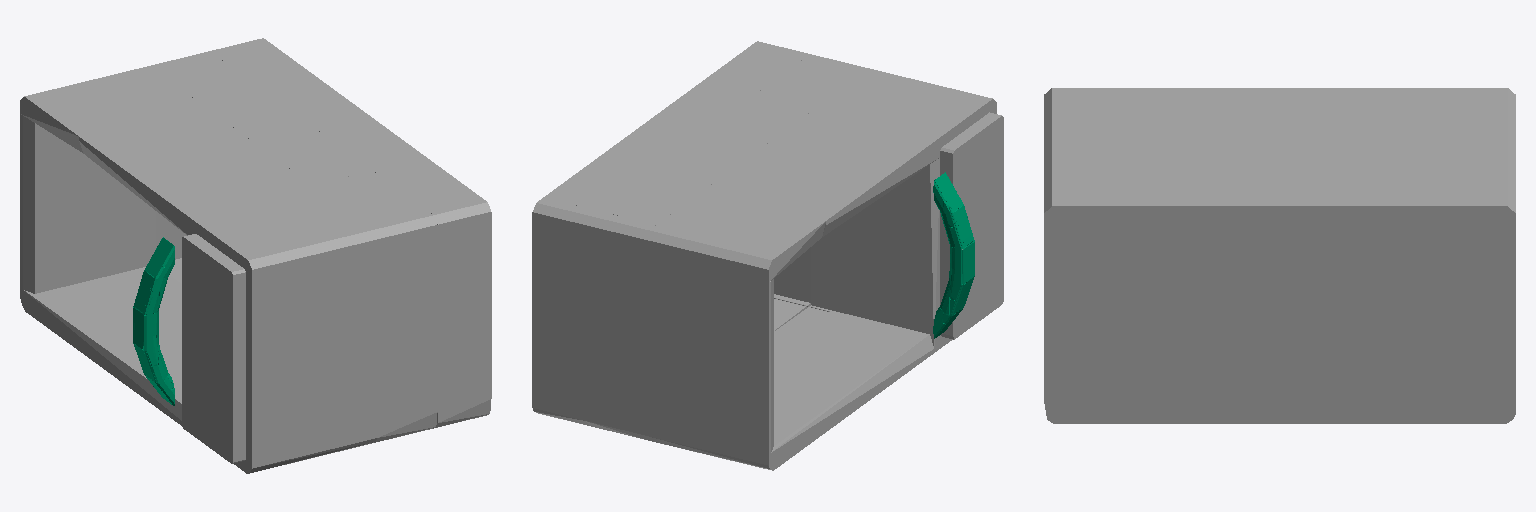
The robot description file, URDF, robot "partnet_c75ebd7c340649ba5ad304c2564ae1df":
<?xml version="1.0" ?>
<robot name="partnet_c75ebd7c340649ba5ad304c2564ae1df">
	<link name="base"/>
	<link name="link_0">
		<visual name="door_frame-9">
			<origin xyz="0.6994047812620767 -0.3716736367086352 -0.4594064542801477"/>
			<geometry>
				<mesh filename="textured_objs/original-2.obj"/>
			</geometry>
		</visual>
		<visual name="glass-10">
			<origin xyz="0.6994047812620767 -0.3716736367086352 -0.4594064542801477"/>
			<geometry>
				<mesh filename="textured_objs/original-6.obj"/>
			</geometry>
		</visual>
		<visual name="glass-10">
			<origin xyz="0.6994047812620767 -0.3716736367086352 -0.4594064542801477"/>
			<geometry>
				<mesh filename="textured_objs/original-9.obj"/>
			</geometry>
		</visual>
		<visual name="glass-10">
			<origin xyz="0.6994047812620767 -0.3716736367086352 -0.4594064542801477"/>
			<geometry>
				<mesh filename="textured_objs/original-8.obj"/>
			</geometry>
		</visual>
		<visual name="glass-10">
			<origin xyz="0.6994047812620767 -0.3716736367086352 -0.4594064542801477"/>
			<geometry>
				<mesh filename="textured_objs/original-15.obj"/>
			</geometry>
		</visual>
		<visual name="glass-10">
			<origin xyz="0.6994047812620767 -0.3716736367086352 -0.4594064542801477"/>
			<geometry>
				<mesh filename="textured_objs/original-10.obj"/>
			</geometry>
		</visual>
		<visual name="glass-10">
			<origin xyz="0.6994047812620767 -0.3716736367086352 -0.4594064542801477"/>
			<geometry>
				<mesh filename="textured_objs/original-12.obj"/>
			</geometry>
		</visual>
		<visual name="glass-10">
			<origin xyz="0.6994047812620767 -0.3716736367086352 -0.4594064542801477"/>
			<geometry>
				<mesh filename="textured_objs/original-14.obj"/>
			</geometry>
		</visual>
		<visual name="glass-10">
			<origin xyz="0.6994047812620767 -0.3716736367086352 -0.4594064542801477"/>
			<geometry>
				<mesh filename="textured_objs/original-11.obj"/>
			</geometry>
		</visual>
		<visual name="glass-10">
			<origin xyz="0.6994047812620767 -0.3716736367086352 -0.4594064542801477"/>
			<geometry>
				<mesh filename="textured_objs/original-13.obj"/>
			</geometry>
		</visual>
		<visual name="glass-10">
			<origin xyz="0.6994047812620767 -0.3716736367086352 -0.4594064542801477"/>
			<geometry>
				<mesh filename="textured_objs/original-5.obj"/>
			</geometry>
		</visual>
		<visual name="glass-10">
			<origin xyz="0.6994047812620767 -0.3716736367086352 -0.4594064542801477"/>
			<geometry>
				<mesh filename="textured_objs/original-16.obj"/>
			</geometry>
		</visual>
		<collision>
			<origin xyz="0.6994047812620767 -0.3716736367086352 -0.4594064542801477"/>
			<geometry>
				<mesh filename="textured_objs/original-2.obj"/>
			</geometry>
		</collision>
		<collision>
			<origin xyz="0.6994047812620767 -0.3716736367086352 -0.4594064542801477"/>
			<geometry>
				<mesh filename="textured_objs/original-6.obj"/>
			</geometry>
		</collision>
		<collision>
			<origin xyz="0.6994047812620767 -0.3716736367086352 -0.4594064542801477"/>
			<geometry>
				<mesh filename="textured_objs/original-9.obj"/>
			</geometry>
		</collision>
		<collision>
			<origin xyz="0.6994047812620767 -0.3716736367086352 -0.4594064542801477"/>
			<geometry>
				<mesh filename="textured_objs/original-8.obj"/>
			</geometry>
		</collision>
		<collision>
			<origin xyz="0.6994047812620767 -0.3716736367086352 -0.4594064542801477"/>
			<geometry>
				<mesh filename="textured_objs/original-15.obj"/>
			</geometry>
		</collision>
		<collision>
			<origin xyz="0.6994047812620767 -0.3716736367086352 -0.4594064542801477"/>
			<geometry>
				<mesh filename="textured_objs/original-10.obj"/>
			</geometry>
		</collision>
		<collision>
			<origin xyz="0.6994047812620767 -0.3716736367086352 -0.4594064542801477"/>
			<geometry>
				<mesh filename="textured_objs/original-12.obj"/>
			</geometry>
		</collision>
		<collision>
			<origin xyz="0.6994047812620767 -0.3716736367086352 -0.4594064542801477"/>
			<geometry>
				<mesh filename="textured_objs/original-14.obj"/>
			</geometry>
		</collision>
		<collision>
			<origin xyz="0.6994047812620767 -0.3716736367086352 -0.4594064542801477"/>
			<geometry>
				<mesh filename="textured_objs/original-11.obj"/>
			</geometry>
		</collision>
		<collision>
			<origin xyz="0.6994047812620767 -0.3716736367086352 -0.4594064542801477"/>
			<geometry>
				<mesh filename="textured_objs/original-13.obj"/>
			</geometry>
		</collision>
		<collision>
			<origin xyz="0.6994047812620767 -0.3716736367086352 -0.4594064542801477"/>
			<geometry>
				<mesh filename="textured_objs/original-5.obj"/>
			</geometry>
		</collision>
		<collision>
			<origin xyz="0.6994047812620767 -0.3716736367086352 -0.4594064542801477"/>
			<geometry>
				<mesh filename="textured_objs/original-16.obj"/>
			</geometry>
		</collision>
	</link>
	<joint name="joint_0" type="revolute">
		<origin xyz="-0.6994047812620767 0.3716736367086352 0.4594064542801477"/>
		<axis xyz="0 -1 0"/>
		<child link="link_0"/>
		<parent link="link_5"/>
		<limit lower="-0.0" upper="1.5707963267948966"/>
	</joint>
	<link name="link_handle">
	    <visual>
			<geometry>
				<mesh filename="textured_objs/original-3_normalized_v.obj" scale="1.0 0.6 1.0"/>
			</geometry>
		</visual>
		<collision>
			<geometry>
				<mesh filename="textured_objs/original-3_normalized_v.obj" scale="1.0 0.6 1.0"/>
			</geometry>
		</collision>
	</link>
	<joint name="joint_handle" type="fixed">
	    <origin xyz="1.0340978092034378 -0.351359999999993 0.0898974550729024"/>
		<child link="link_handle"/>
		<parent link="link_0"/>
	</joint>
	<link name="link_1">
		<visual name="door_button-5">
			<origin xyz="0 0 0"/>
			<geometry>
				<mesh filename="textured_objs/original-22.obj"/>
			</geometry>
		</visual>
		<collision>
			<origin xyz="0 0 0"/>
			<geometry>
				<mesh filename="textured_objs/original-22.obj"/>
			</geometry>
		</collision>
	</link>
	<joint name="joint_1" type="prismatic">
		<origin xyz="0 0 0"/>
		<axis xyz="0 0 -1"/>
		<child link="link_1"/>
		<parent link="link_5"/>
		<limit lower="0.0040000000000000036" upper="0.01200000000000001"/>
	</joint>
	<link name="link_2">
		<visual name="control_button-6">
			<origin xyz="-0.595905953683902 0.10762880873845218 0"/>
			<geometry>
				<mesh filename="textured_objs/original-21.obj"/>
			</geometry>
		</visual>
		<collision>
			<origin xyz="-0.595905953683902 0.10762880873845218 0"/>
			<geometry>
				<mesh filename="textured_objs/original-21.obj"/>
			</geometry>
		</collision>
	</link>
	<joint name="joint_2" type="continuous">
		<origin xyz="0.595905953683902 -0.10762880873845218 0"/>
		<axis xyz="0 0 1"/>
		<child link="link_2"/>
		<parent link="link_5"/>
	</joint>
	<link name="link_3">
		<visual name="control_button-7">
			<origin xyz="-0.5959056708108185 -0.10520150832160682 0"/>
			<geometry>
				<mesh filename="textured_objs/original-20.obj"/>
			</geometry>
		</visual>
		<collision>
			<origin xyz="-0.5959056708108185 -0.10520150832160682 0"/>
			<geometry>
				<mesh filename="textured_objs/original-20.obj"/>
			</geometry>
		</collision>
	</link>
	<joint name="joint_3" type="continuous">
		<origin xyz="0.5959056708108185 0.10520150832160682 0"/>
		<axis xyz="0 0 1"/>
		<child link="link_3"/>
		<parent link="link_5"/>
	</joint>
	<link name="link_4">
		<visual name="tray-12">
			<origin xyz="0.149241880774498 0 0.02379955083131792"/>
			<geometry>
				<mesh filename="textured_objs/original-44.obj"/>
			</geometry>
		</visual>
		<visual name="tray_support-13">
			<origin xyz="0.149241880774498 0 0.02379955083131792"/>
			<geometry>
				<mesh filename="textured_objs/original-43.obj"/>
			</geometry>
		</visual>
		<visual name="tray_support-13">
			<origin xyz="0.149241880774498 0 0.02379955083131792"/>
			<geometry>
				<mesh filename="textured_objs/original-45.obj"/>
			</geometry>
		</visual>
		<visual name="tray_support-13">
			<origin xyz="0.149241880774498 0 0.02379955083131792"/>
			<geometry>
				<mesh filename="textured_objs/original-41.obj"/>
			</geometry>
		</visual>
		<visual name="tray_support-13">
			<origin xyz="0.149241880774498 0 0.02379955083131792"/>
			<geometry>
				<mesh filename="textured_objs/original-42.obj"/>
			</geometry>
		</visual>
		<collision>
			<origin xyz="0.149241880774498 0 0.02379955083131792"/>
			<geometry>
				<mesh filename="textured_objs/original-44.obj"/>
			</geometry>
		</collision>
		<collision>
			<origin xyz="0.149241880774498 0 0.02379955083131792"/>
			<geometry>
				<mesh filename="textured_objs/original-43.obj"/>
			</geometry>
		</collision>
		<collision>
			<origin xyz="0.149241880774498 0 0.02379955083131792"/>
			<geometry>
				<mesh filename="textured_objs/original-45.obj"/>
			</geometry>
		</collision>
		<collision>
			<origin xyz="0.149241880774498 0 0.02379955083131792"/>
			<geometry>
				<mesh filename="textured_objs/original-41.obj"/>
			</geometry>
		</collision>
		<collision>
			<origin xyz="0.149241880774498 0 0.02379955083131792"/>
			<geometry>
				<mesh filename="textured_objs/original-42.obj"/>
			</geometry>
		</collision>
	</link>
	<joint name="joint_4" type="continuous">
		<origin xyz="-0.149241880774498 0 -0.02379955083131792"/>
		<axis xyz="0 1 0"/>
		<child link="link_4"/>
		<parent link="link_5"/>
	</joint>
	<link name="link_5">
		<visual name="frame-2">
			<origin xyz="0 0 0"/>
			<geometry>
				<mesh filename="textured_objs/original-36_v.obj"/>
			</geometry>
		</visual>
		<visual name="display_panel-8">
			<origin xyz="0 0 0"/>
			<geometry>
				<mesh filename="textured_objs/original-26.obj"/>
			</geometry>
		</visual>
		<visual name="display_panel-8">
			<origin xyz="0 0 0"/>
			<geometry>
				<mesh filename="textured_objs/original-27.obj"/>
			</geometry>
		</visual>
		<visual name="display_panel-8">
			<origin xyz="0 0 0"/>
			<geometry>
				<mesh filename="textured_objs/original-28.obj"/>
			</geometry>
		</visual>
		<visual name="display_panel-8">
			<origin xyz="0 0 0"/>
			<geometry>
				<mesh filename="textured_objs/original-29.obj"/>
			</geometry>
		</visual>
		<visual name="display_panel-8">
			<origin xyz="0 0 0"/>
			<geometry>
				<mesh filename="textured_objs/original-30.obj"/>
			</geometry>
		</visual>
		<visual name="display_panel-8">
			<origin xyz="0 0 0"/>
			<geometry>
				<mesh filename="textured_objs/original-31.obj"/>
			</geometry>
		</visual>
		<visual name="display_panel-8">
			<origin xyz="0 0 0"/>
			<geometry>
				<mesh filename="textured_objs/original-34.obj"/>
			</geometry>
		</visual>
		<visual name="display_panel-8">
			<origin xyz="0 0 0"/>
			<geometry>
				<mesh filename="textured_objs/original-33.obj"/>
			</geometry>
		</visual>
		<visual name="display_panel-8">
			<origin xyz="0 0 0"/>
			<geometry>
				<mesh filename="textured_objs/original-32.obj"/>
			</geometry>
		</visual>
		<visual name="display_panel-8">
			<origin xyz="0 0 0"/>
			<geometry>
				<mesh filename="textured_objs/original-35.obj"/>
			</geometry>
		</visual>
		<visual name="display_panel-8">
			<origin xyz="0 0 0"/>
			<geometry>
				<mesh filename="textured_objs/original-23.obj"/>
			</geometry>
		</visual>
		<collision>
			<origin xyz="0 0 0"/>
			<geometry>
				<mesh filename="textured_objs/original-36_v.obj"/>
			</geometry>
		</collision>
		<collision>
			<origin xyz="0 0 0"/>
			<geometry>
				<mesh filename="textured_objs/original-26.obj"/>
			</geometry>
		</collision>
		<collision>
			<origin xyz="0 0 0"/>
			<geometry>
				<mesh filename="textured_objs/original-27.obj"/>
			</geometry>
		</collision>
		<collision>
			<origin xyz="0 0 0"/>
			<geometry>
				<mesh filename="textured_objs/original-28.obj"/>
			</geometry>
		</collision>
		<collision>
			<origin xyz="0 0 0"/>
			<geometry>
				<mesh filename="textured_objs/original-29.obj"/>
			</geometry>
		</collision>
		<collision>
			<origin xyz="0 0 0"/>
			<geometry>
				<mesh filename="textured_objs/original-30.obj"/>
			</geometry>
		</collision>
		<collision>
			<origin xyz="0 0 0"/>
			<geometry>
				<mesh filename="textured_objs/original-31.obj"/>
			</geometry>
		</collision>
		<collision>
			<origin xyz="0 0 0"/>
			<geometry>
				<mesh filename="textured_objs/original-34.obj"/>
			</geometry>
		</collision>
		<collision>
			<origin xyz="0 0 0"/>
			<geometry>
				<mesh filename="textured_objs/original-33.obj"/>
			</geometry>
		</collision>
		<collision>
			<origin xyz="0 0 0"/>
			<geometry>
				<mesh filename="textured_objs/original-32.obj"/>
			</geometry>
		</collision>
		<collision>
			<origin xyz="0 0 0"/>
			<geometry>
				<mesh filename="textured_objs/original-35.obj"/>
			</geometry>
		</collision>
		<collision>
			<origin xyz="0 0 0"/>
			<geometry>
				<mesh filename="textured_objs/original-23.obj"/>
			</geometry>
		</collision>
	</link>
	<joint name="joint_5" type="fixed">
		<origin rpy="1.570796326794897 0 -1.570796326794897" xyz="0 0 0"/>
		<child link="link_5"/>
		<parent link="base"/>
	</joint>
</robot>

--- What the picture shows (computed from the rendered views, not written in the file) ---
The picture shows the robot from 3 angles, left to right: view 1: azimuth 30°, elevation 25°; view 2: azimuth 150°, elevation 25°; view 3: azimuth 270°, elevation 25°; orthographic projection.
Robot: partnet_c75ebd7c340649ba5ad304c2564ae1df — 8 links, 7 joints (1 revolute, 3 continuous, 1 prismatic, 2 fixed); root link base; default pose: all joints at 0 but 1 set to mid-range because 0 is outside their limits (joint_1 = 0.008).
Links seen in each view (by area): view 1: link_5, link_handle; view 2: link_5, link_handle; view 3: link_5.
Link boxes in pixels (x1,y1,x2,y2): link_5: (20,38,491,473); link_handle: (133,237,174,405); link_5: (532,41,1003,470); link_handle: (933,172,974,338); link_5: (1044,88,1515,423).
Bounding box of the posed robot: 1.09 × 1.54 × 0.789 m (x, y, z).
3 mesh visuals loaded from 33 distinct referenced files (3 OBJ); not drawn: 30 (reference not matched to a file when rendering).